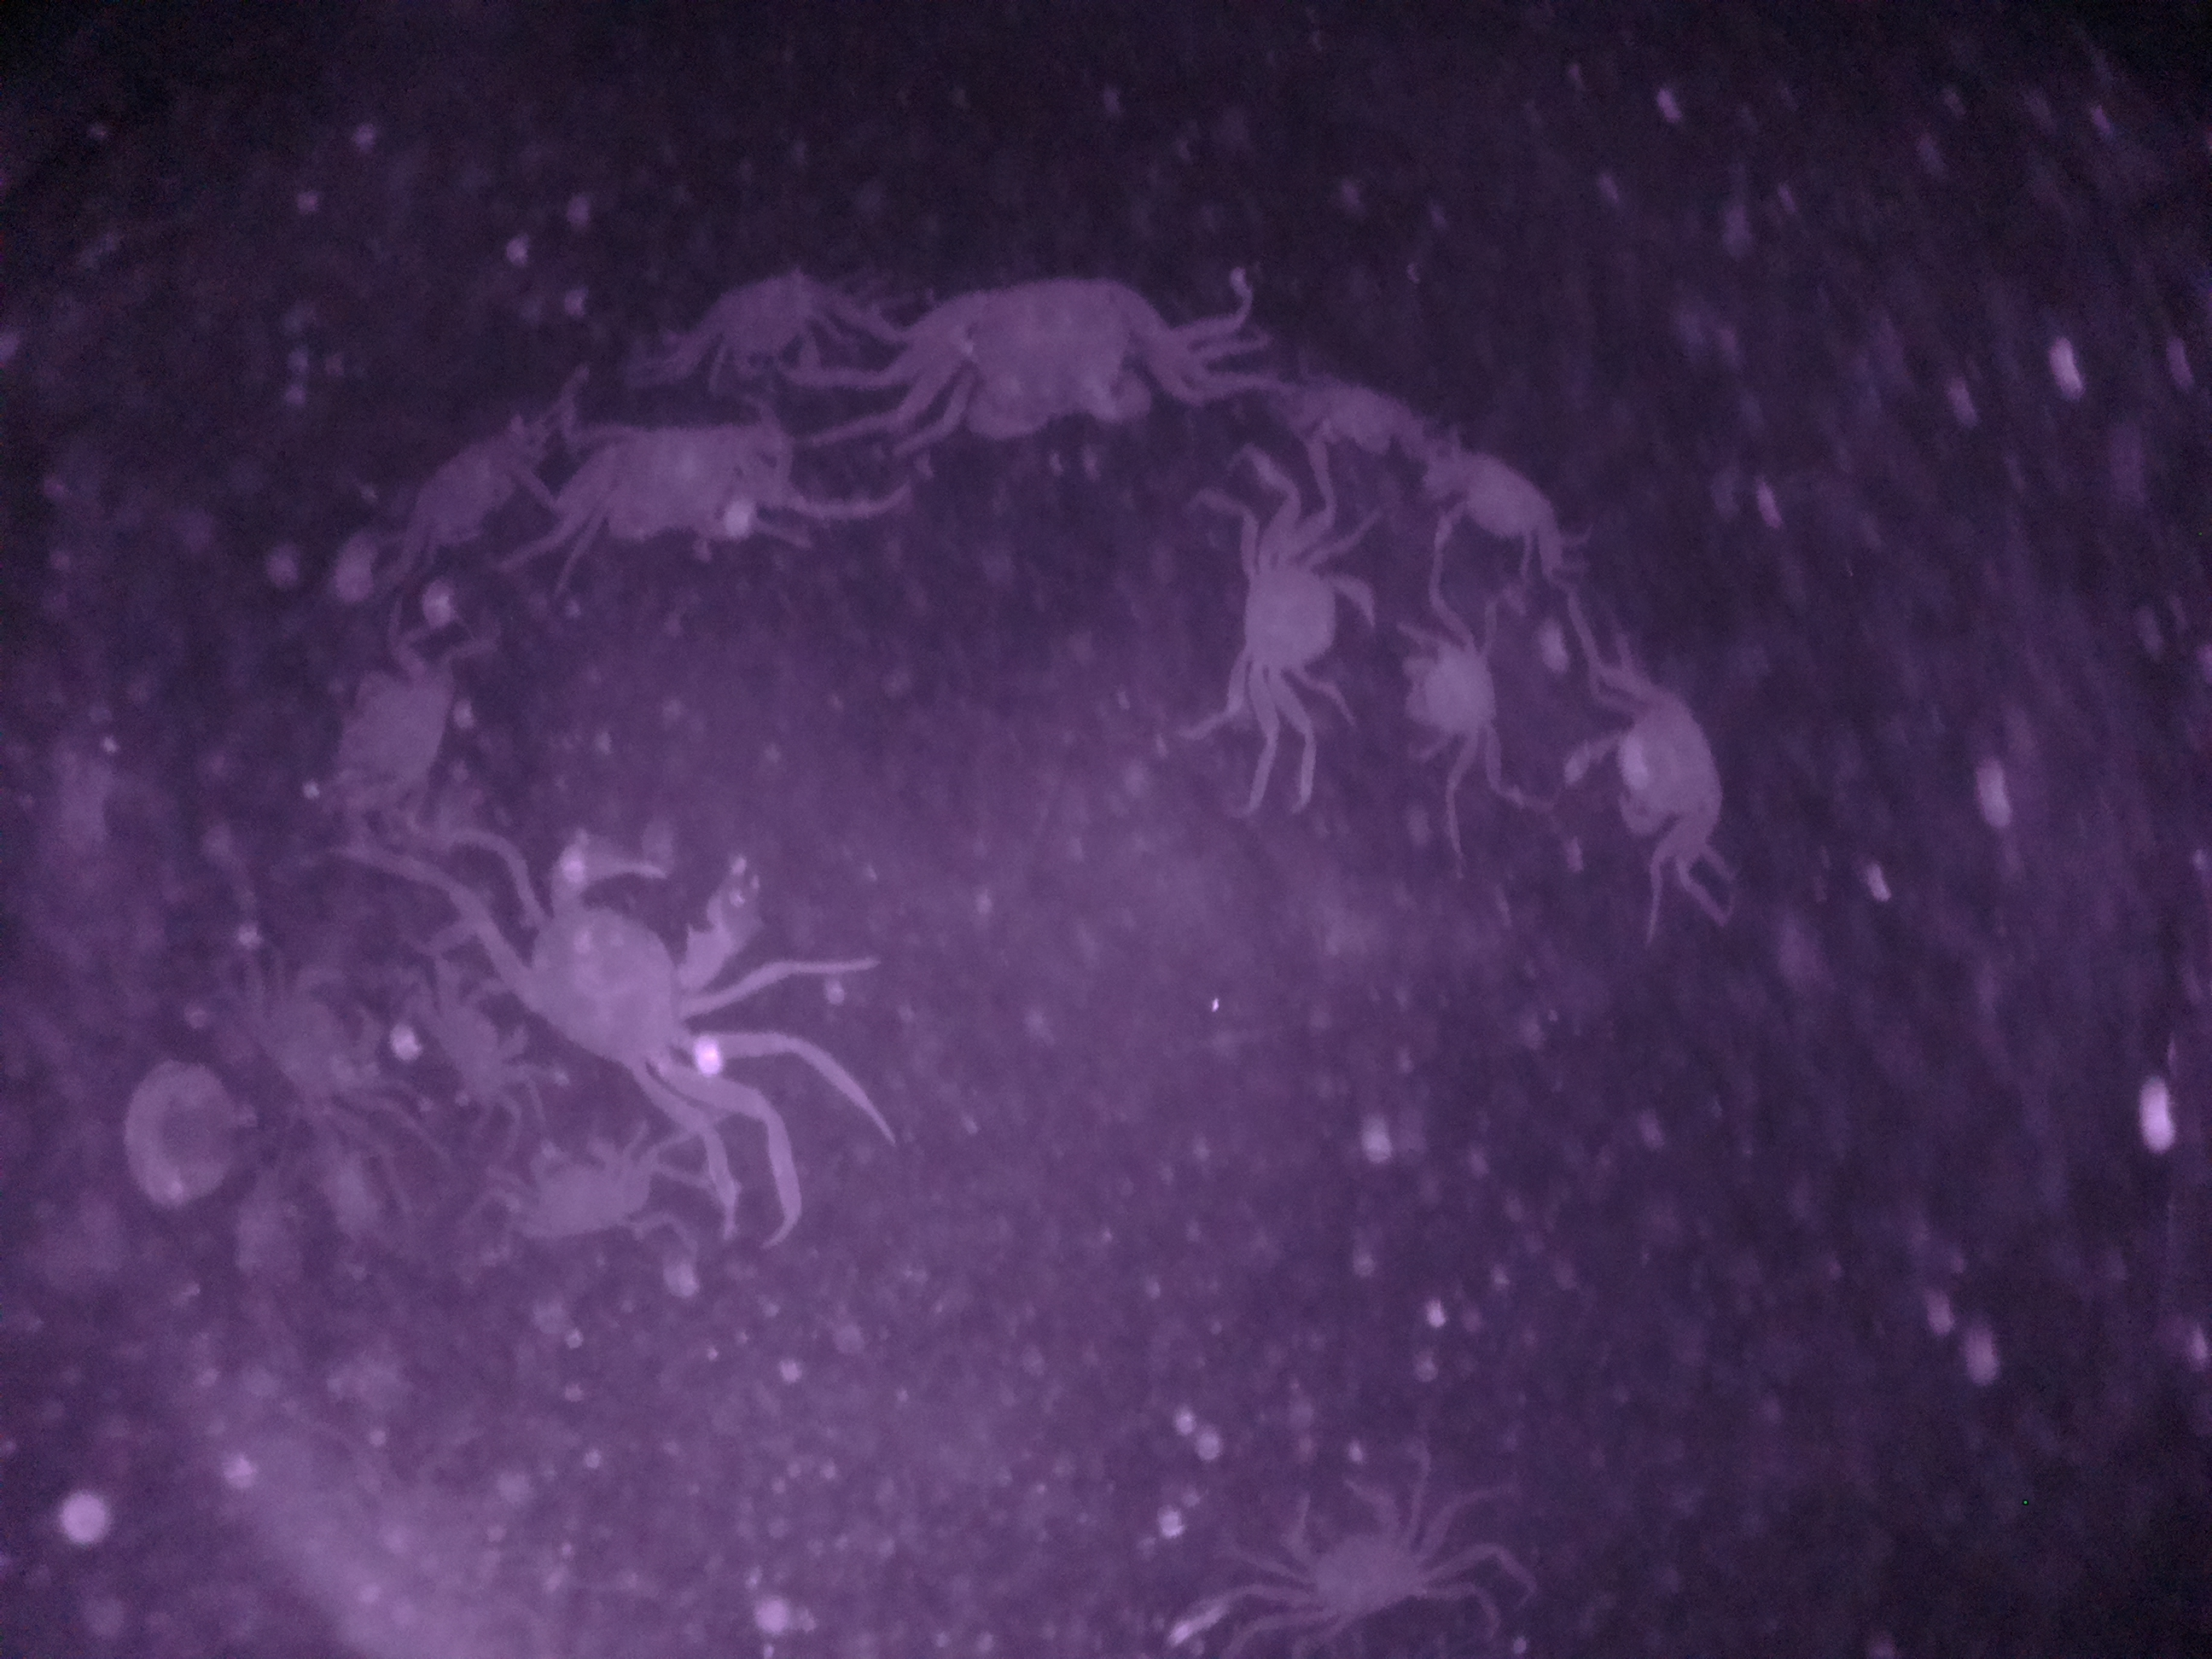Crab: (507, 814, 775, 1119), (902, 256, 1177, 469), (531, 399, 834, 563), (1249, 1462, 1465, 1645), (1552, 664, 1752, 861), (1224, 511, 1383, 758), (1397, 408, 1585, 606), (1392, 598, 1512, 777)
